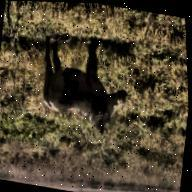boar: (22, 25, 145, 149)
